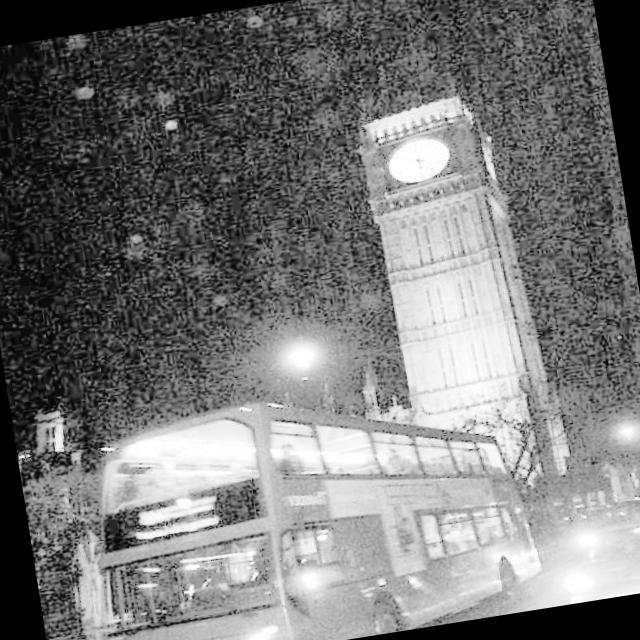Bus: (17, 377, 536, 640)
Car: (541, 521, 640, 607)
